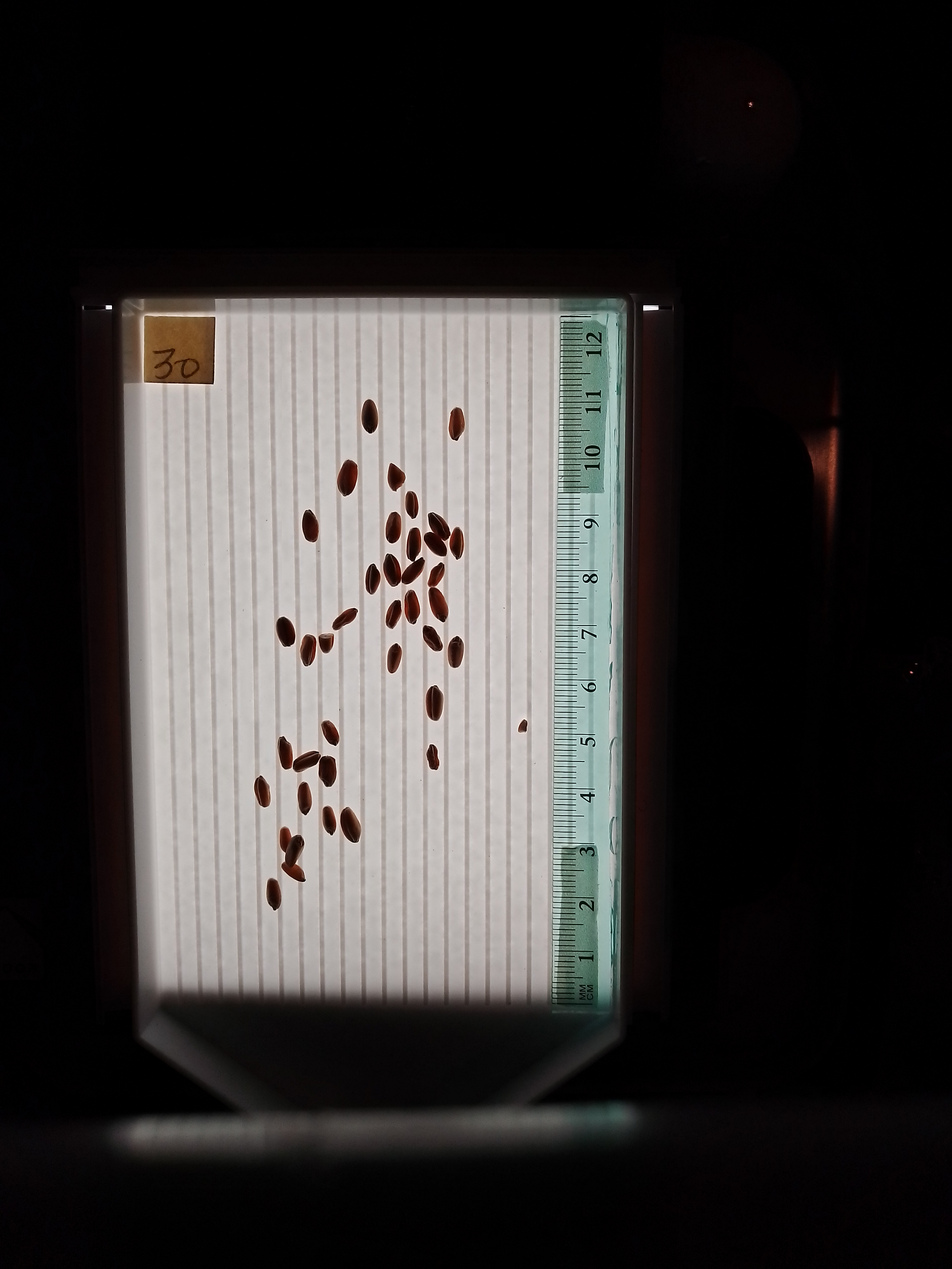seed mask: (337, 461, 357, 495), (341, 808, 360, 843), (276, 616, 296, 647), (361, 399, 379, 433), (429, 589, 448, 621), (426, 686, 443, 720), (285, 835, 304, 865), (293, 751, 320, 772), (448, 407, 465, 440), (402, 559, 424, 584), (429, 513, 449, 540), (319, 756, 337, 786), (302, 511, 319, 542), (425, 531, 446, 556), (448, 637, 464, 668), (384, 556, 401, 585), (404, 593, 420, 623), (254, 777, 270, 807), (423, 626, 442, 651), (278, 738, 293, 769), (334, 608, 356, 629), (321, 721, 340, 745), (450, 528, 465, 558), (386, 513, 401, 543), (388, 465, 405, 491), (365, 565, 380, 594), (267, 879, 281, 910), (407, 528, 421, 558), (301, 636, 315, 665), (387, 645, 401, 673), (298, 783, 311, 813), (429, 563, 445, 587), (284, 864, 305, 882), (387, 602, 401, 628), (323, 807, 336, 833), (406, 492, 419, 517), (427, 745, 439, 770), (279, 828, 291, 850)
